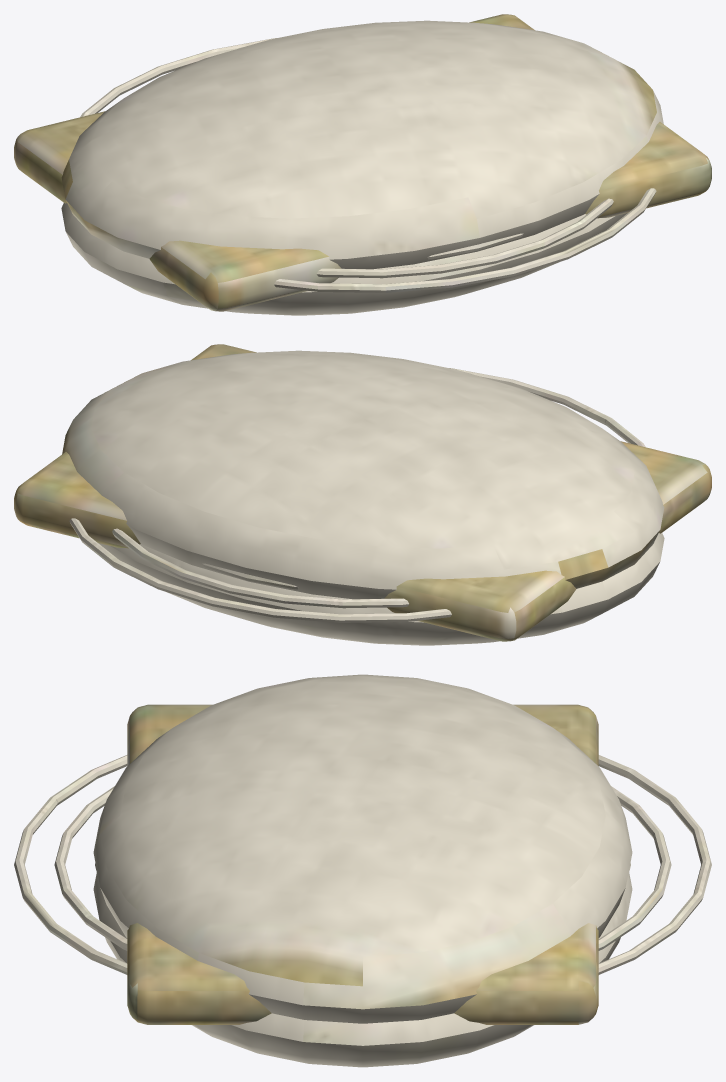
File: clam.glb
3 views of the same model, one above another, from view 1: azimuth 30°, elevation 25°; view 2: azimuth 150°, elevation 25°; view 3: azimuth 270°, elevation 25° (orthographic). The views are drawn at different scales.
Visible parts, largest first — view 1: valve1, mantle, valve-1, ridge6, ridge5, ridge4; view 2: valve1, mantle, valve-1, ridge6, ridge5, ridge4; view 3: valve1, mantle, valve-1, ridge6, ridge5.
Boxes of the visible parts, x1,y1,x2,y2 form: valve1: (61, 20, 663, 269); mantle: (14, 14, 711, 311); valve-1: (61, 203, 627, 315); ridge6: (80, 38, 656, 292); ridge5: (317, 198, 613, 278); ridge4: (427, 233, 523, 259); valve1: (62, 350, 664, 599); mantle: (14, 344, 711, 641); valve-1: (98, 533, 664, 645); ridge6: (69, 368, 645, 622); ridge5: (112, 528, 408, 608); ridge4: (202, 563, 298, 589); valve1: (93, 674, 632, 1023); mantle: (127, 704, 598, 1024); valve-1: (93, 872, 632, 1067); ridge6: (14, 755, 711, 974); ridge5: (54, 786, 671, 950).
Bounding box in the file's own units: 1.1 × 0.34 × 1.04.
Materials: 1 (1 with a texture image).
